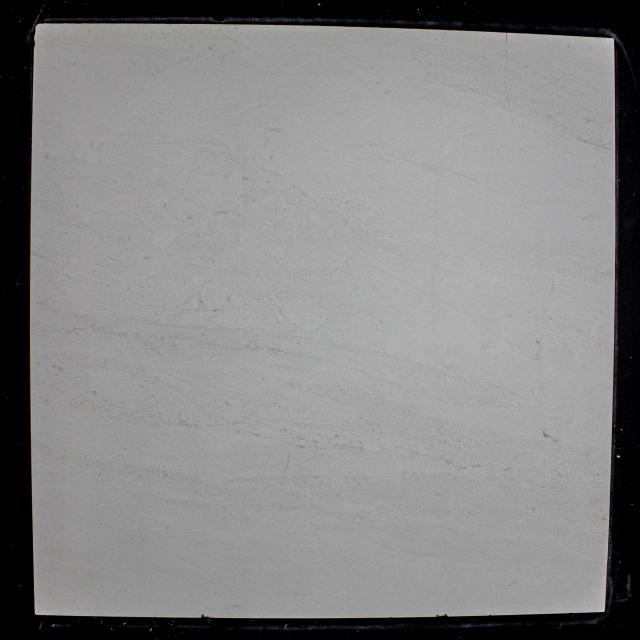edge-chipping: (33, 24, 38, 36)
line: (576, 136, 614, 151), (504, 34, 508, 104)
